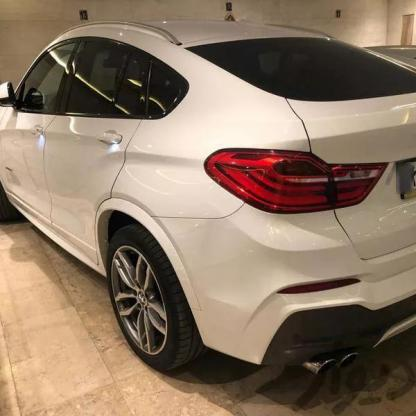Car: (0, 0, 416, 363)
